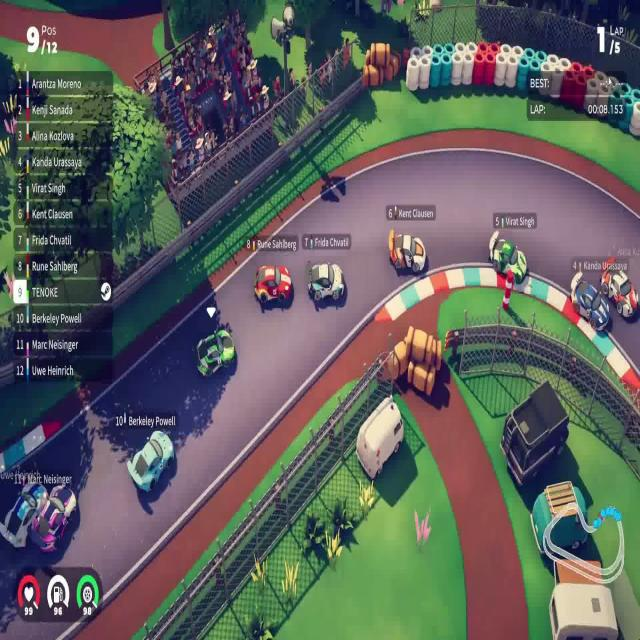car: (126, 428, 175, 494), (0, 481, 49, 543), (34, 485, 76, 553), (570, 270, 610, 332), (600, 261, 638, 320), (488, 229, 527, 284), (196, 327, 236, 379), (387, 228, 427, 275), (253, 263, 292, 307), (307, 261, 345, 303)
